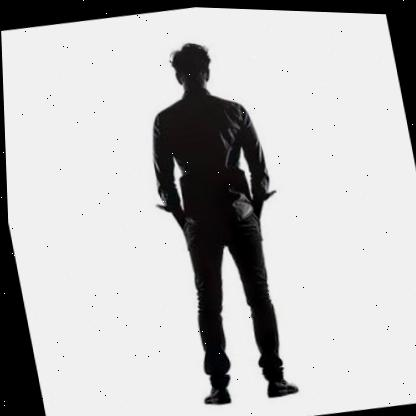person: (116, 25, 324, 413)
